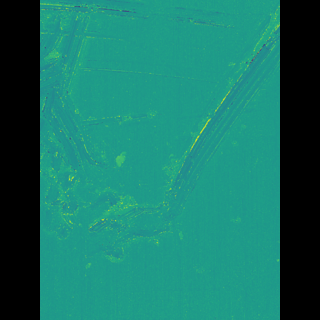Loch: (102, 0, 249, 274), (68, 0, 125, 262), (70, 0, 218, 34)
